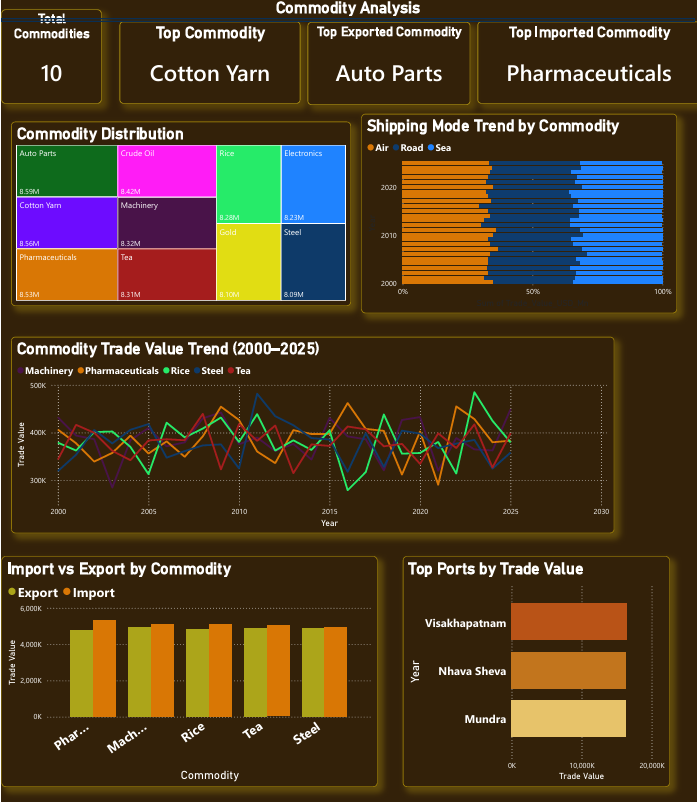

This screenshot's page, from the dashboard's own definition file:
{"tool":"powerbi","page":{"name":"Page 4","canvas":[1160,1377],"ordinal":3},"visuals":[{"type":"cardVisual","title":"Total Commodities","fields":{"Data":["Count(india_trade_analysis_country_india_2000_2025.Commodity)"]},"box":[0,20,166,156],"z":0},{"type":"cardVisual","title":"Top Commodity","fields":{"Data":["india_trade_analysis_country_india_2000_2025.Top Commodity"]},"box":[196,40,300,136],"z":1000},{"type":"cardVisual","title":"Top Exported Commodity ","fields":{"Data":["india_trade_analysis_country_india_2000_2025.Highest Export Commodity"]},"box":[507.5,41.2,270,136.2],"z":2000},{"type":"cardVisual","title":"Top Imported Commodity","fields":{"Data":["india_trade_analysis_country_india_2000_2025.Highest Import Commodity"]},"box":[790,40,370,136.2],"z":3000},{"type":"treemap","title":"Commodity Distribution","fields":{"Group":["india_trade_analysis_country_india_2000_2025.Commodity"],"Values":["Sum(india_trade_analysis_country_india_2000_2025.Trade_Value_USD_Mn)"]},"box":[16,206,564,306],"z":4000},{"type":"lineChart","title":"Commodity Trade Value Trend (2000–2025)","fields":{"Category":["india_trade_analysis_country_india_2000_2025.Year"],"Y":["Sum(india_trade_analysis_country_india_2000_2025.Trade_Value_USD_Mn)"],"Series":["india_trade_analysis_country_india_2000_2025.Commodity"]},"box":[15.7,562.9,1001.4,325.7],"z":5000},{"type":"hundredPercentStackedBarChart","title":"Shipping Mode Trend by Commodity","fields":{"Category":["india_trade_analysis_country_india_2000_2025.Year"],"Y":["Sum(india_trade_analysis_country_india_2000_2025.Trade_Value_USD_Mn)"],"Series":["india_trade_analysis_country_india_2000_2025.Shipping_Mode"]},"box":[597.1,192.9,524.3,331.4],"z":6000},{"type":"clusteredColumnChart","title":"Import vs Export by Commodity","fields":{"Category":["india_trade_analysis_country_india_2000_2025.Commodity"],"Y":["Sum(india_trade_analysis_country_india_2000_2025.Trade_Value_USD_Mn)"],"Series":["india_trade_analysis_country_india_2000_2025.Trade_Type"]},"box":[0,927.1,624.3,382.9],"z":7000},{"type":"clusteredBarChart","title":"Top Ports by Trade Value ","fields":{"Category":["india_trade_analysis_country_india_2000_2025.Indian_Port"],"Y":["Sum(india_trade_analysis_country_india_2000_2025.Trade_Value_USD_Mn)"]},"box":[665.7,927.1,442.9,382.9],"z":8000},{"type":"shape","title":"Commodity Analysis","box":[0,0,1150,40],"z":9000}]}

Visuals, with their boxes on the page's 1160x1377 design canvas (x1, y1, x2, y2). These are canvas units, not pixel positions in the 697x802 screenshot, which may show the page scaled, cropped or inside an application window:
"Total Commodities" cardVisual: 0,20,166,176
"Top Commodity" cardVisual: 196,40,496,176
"Top Exported Commodity " cardVisual: 508,41,778,177
"Top Imported Commodity" cardVisual: 790,40,1160,176
"Commodity Distribution" treemap: 16,206,580,512
"Commodity Trade Value Trend (2000–2025)" lineChart: 16,563,1017,889
"Shipping Mode Trend by Commodity" hundredPercentStackedBarChart: 597,193,1121,524
"Import vs Export by Commodity" clusteredColumnChart: 0,927,624,1310
"Top Ports by Trade Value " clusteredBarChart: 666,927,1109,1310
"Commodity Analysis" shape: 0,0,1150,40
